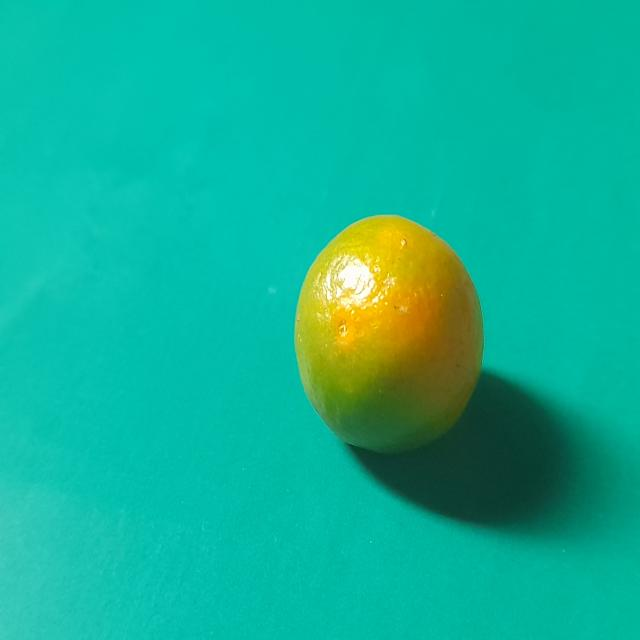greening: (286, 203, 488, 466)
